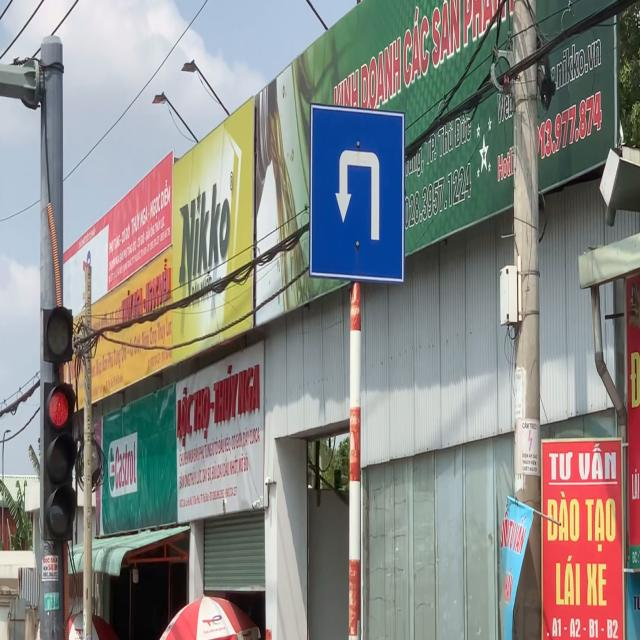Chi dan: (308, 98, 407, 286)
